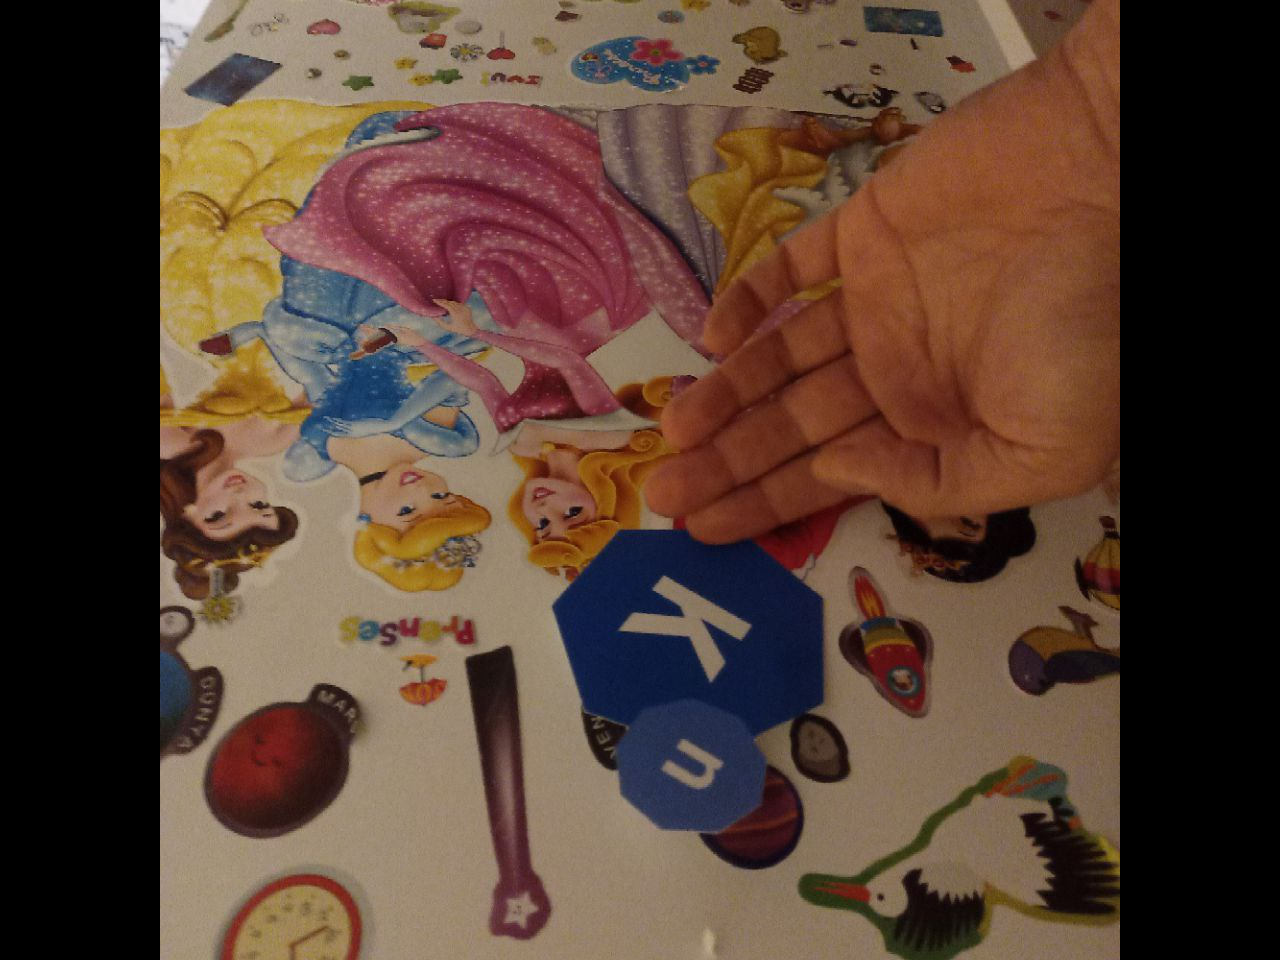knative: (551, 528, 826, 831)
